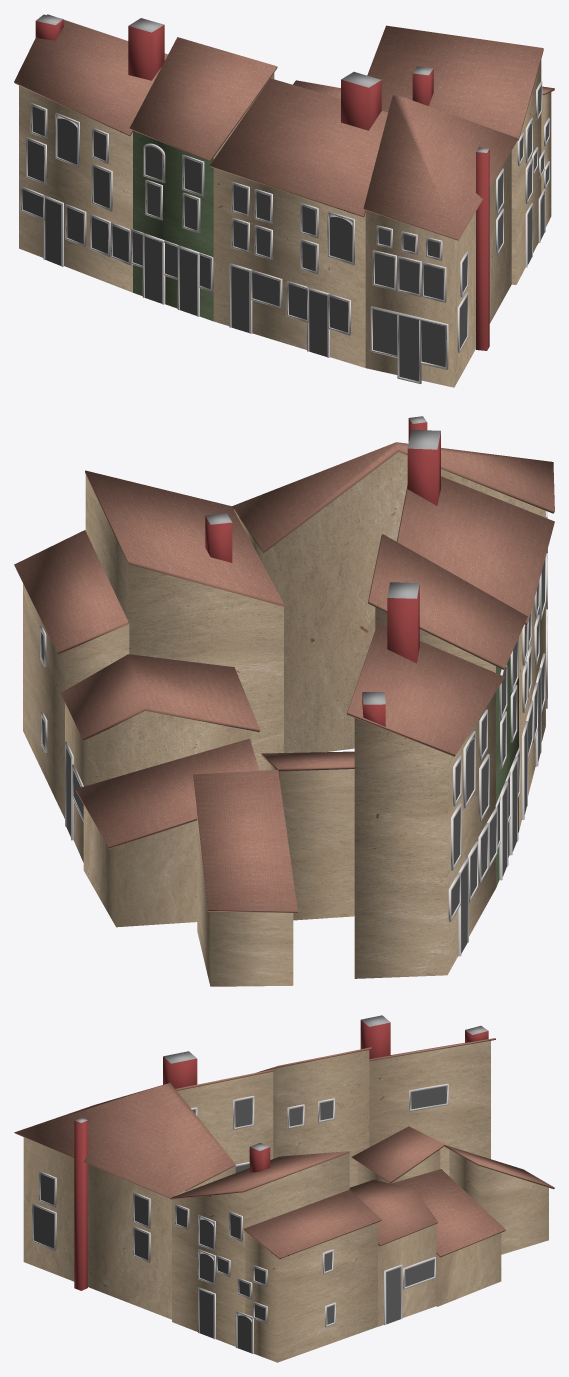
File: ilot34combine.fbx
3 views of the same model, one above another, from view 1: azimuth 30°, elevation 25°; view 2: azimuth 150°, elevation 25°; view 3: azimuth 270°, elevation 25° (orthographic). The views are drawn at different scales.
Visible parts, largest first — view 1: _ILOT34BAT5, _ILOT34BAT1, _ILOT34BAT3, _ILOT34BAT2, _ILOT34BAT4, _ILOT34BAT6; view 2: _ILOT34BAT3, _ILOT34BAT1, _ILOT34BAT4, _ILOT34BAT7, _ILOT34BAT5, _ILOT34BAT9, _ILOT34BAT10, _ILOT34BAT6, _ILOT34BAT2, _ILOT34BAT8; view 3: _ILOT34BAT1, _ILOT34BAT6, _ILOT34BAT4, _ILOT34BAT3, _ILOT34BAT2, _ILOT34BAT9, _ILOT34BAT10, _ILOT34BAT5, _ILOT34BAT7, _ILOT34BAT8.
Boxes of the visible parts, bbox=[...] form: _ILOT34BAT5: bbox=[210, 72, 388, 367]; _ILOT34BAT1: bbox=[363, 95, 518, 387]; _ILOT34BAT3: bbox=[14, 14, 167, 292]; _ILOT34BAT2: bbox=[129, 37, 277, 321]; _ILOT34BAT4: bbox=[367, 25, 543, 284]; _ILOT34BAT6: bbox=[538, 86, 554, 242]; _ILOT34BAT3: bbox=[346, 582, 504, 978]; _ILOT34BAT1: bbox=[232, 416, 554, 752]; _ILOT34BAT4: bbox=[85, 470, 283, 770]; _ILOT34BAT7: bbox=[193, 770, 297, 986]; _ILOT34BAT5: bbox=[396, 429, 554, 830]; _ILOT34BAT9: bbox=[61, 654, 259, 862]; _ILOT34BAT10: bbox=[75, 738, 259, 927]; _ILOT34BAT6: bbox=[14, 530, 129, 818]; _ILOT34BAT2: bbox=[368, 534, 527, 887]; _ILOT34BAT8: bbox=[261, 751, 354, 920]; _ILOT34BAT1: bbox=[14, 1083, 235, 1319]; _ILOT34BAT6: bbox=[235, 1189, 381, 1362]; _ILOT34BAT4: bbox=[170, 1142, 349, 1346]; _ILOT34BAT3: bbox=[360, 1015, 495, 1175]; _ILOT34BAT2: bbox=[257, 1047, 371, 1187]; _ILOT34BAT9: bbox=[349, 1179, 437, 1326]; _ILOT34BAT10: bbox=[391, 1169, 505, 1306]; _ILOT34BAT5: bbox=[163, 1051, 274, 1172]; _ILOT34BAT7: bbox=[444, 1145, 554, 1254]; _ILOT34BAT8: bbox=[352, 1126, 444, 1184].
Size of the model in its own units: 4.47 by 2.38 by 5.63.
